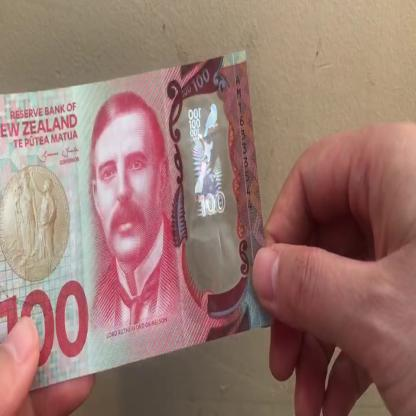100F: (184, 102, 235, 273)
